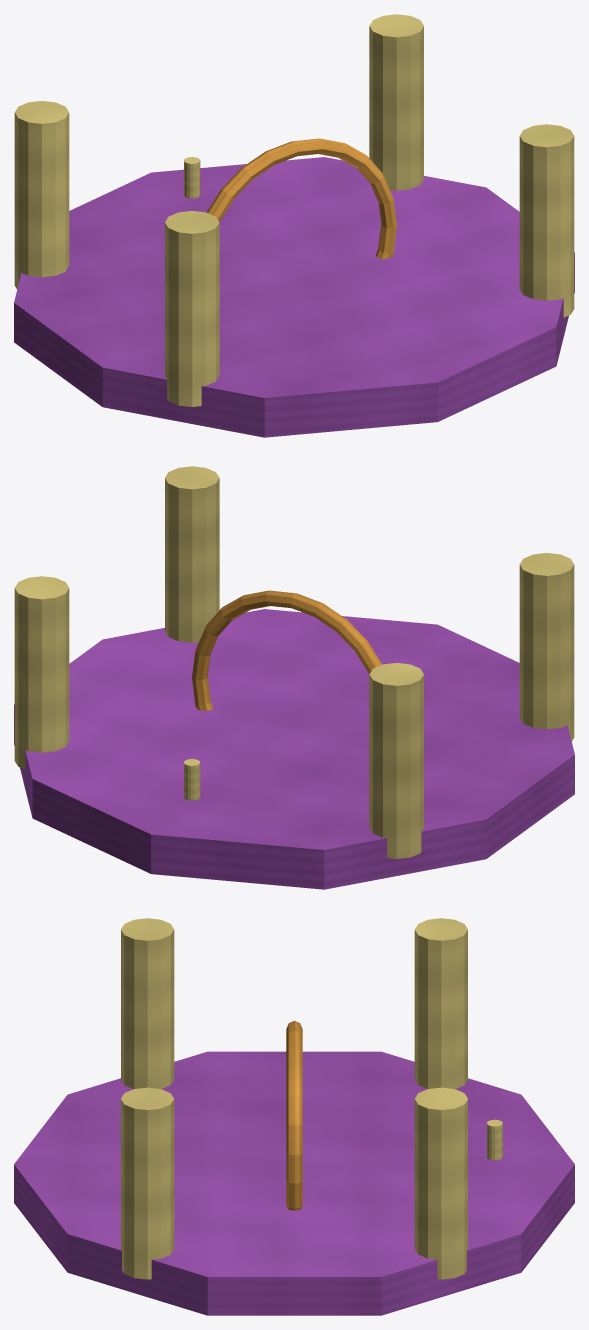
The model's file is abyss-chancel.glb.
3 renders of one model, top to bottom at view 1: azimuth 30°, elevation 25°; view 2: azimuth 150°, elevation 25°; view 3: azimuth 270°, elevation 25°, orthographic. The views are drawn at different scales.
Visible parts, largest first — view 1: chancel-floor, chancel-pillar-2, chancel-pillar-3, chancel-pillar-0, chancel-pillar-1, chancel-vow-seal, chancel-votive-candle; view 2: chancel-floor, chancel-pillar-0, chancel-pillar-1, chancel-pillar-2, chancel-pillar-3, chancel-vow-seal, chancel-votive-candle; view 3: chancel-floor, chancel-pillar-1, chancel-pillar-3, chancel-pillar-0, chancel-pillar-2, chancel-vow-seal, chancel-votive-candle.
Boxes of the visible parts, x1=… form: chancel-floor: x1=14, y1=157, x2=574, y2=437; chancel-pillar-2: x1=165, y1=211, x2=219, y2=406; chancel-pillar-3: x1=519, y1=124, x2=574, y2=317; chancel-pillar-0: x1=14, y1=101, x2=69, y2=289; chancel-pillar-1: x1=369, y1=14, x2=423, y2=190; chancel-vow-seal: x1=207, y1=138, x2=396, y2=258; chancel-votive-candle: x1=184, y1=157, x2=200, y2=198; chancel-floor: x1=14, y1=609, x2=574, y2=889; chancel-pillar-0: x1=369, y1=663, x2=423, y2=858; chancel-pillar-1: x1=14, y1=576, x2=69, y2=769; chancel-pillar-2: x1=519, y1=553, x2=574, y2=741; chancel-pillar-3: x1=165, y1=466, x2=219, y2=642; chancel-vow-seal: x1=192, y1=590, x2=381, y2=710; chancel-votive-candle: x1=184, y1=759, x2=200, y2=800; chancel-floor: x1=14, y1=1051, x2=574, y2=1315; chancel-pillar-1: x1=414, y1=1087, x2=467, y2=1279; chancel-pillar-3: x1=121, y1=1087, x2=174, y2=1279; chancel-pillar-0: x1=414, y1=918, x2=467, y2=1088; chancel-pillar-2: x1=121, y1=918, x2=174, y2=1088; chancel-vow-seal: x1=286, y1=1021, x2=302, y2=1210; chancel-votive-candle: x1=487, y1=1119, x2=502, y2=1160.
Bounding box in the file's own units: 2 × 0.93 × 2.1.
Materials: 7 (7 with a texture image).
